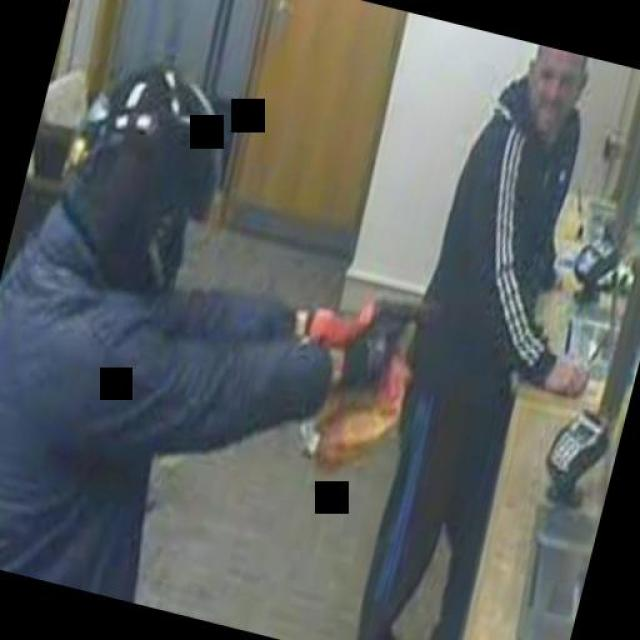gun: (332, 271, 460, 439)
